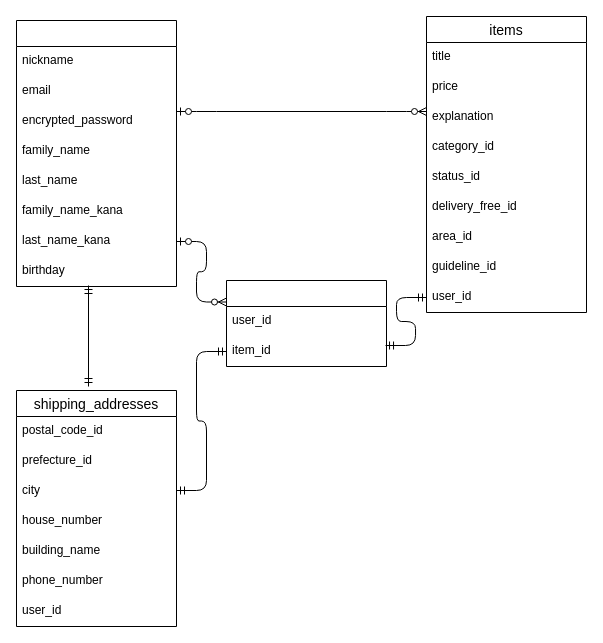
Image size: 603x643. Some labels were removed from this diagram. The box of each missing label's shape, as (x1, y1, x2, y2) in pixels:
purchase: (226, 280, 386, 366)
users: (16, 20, 176, 286)
